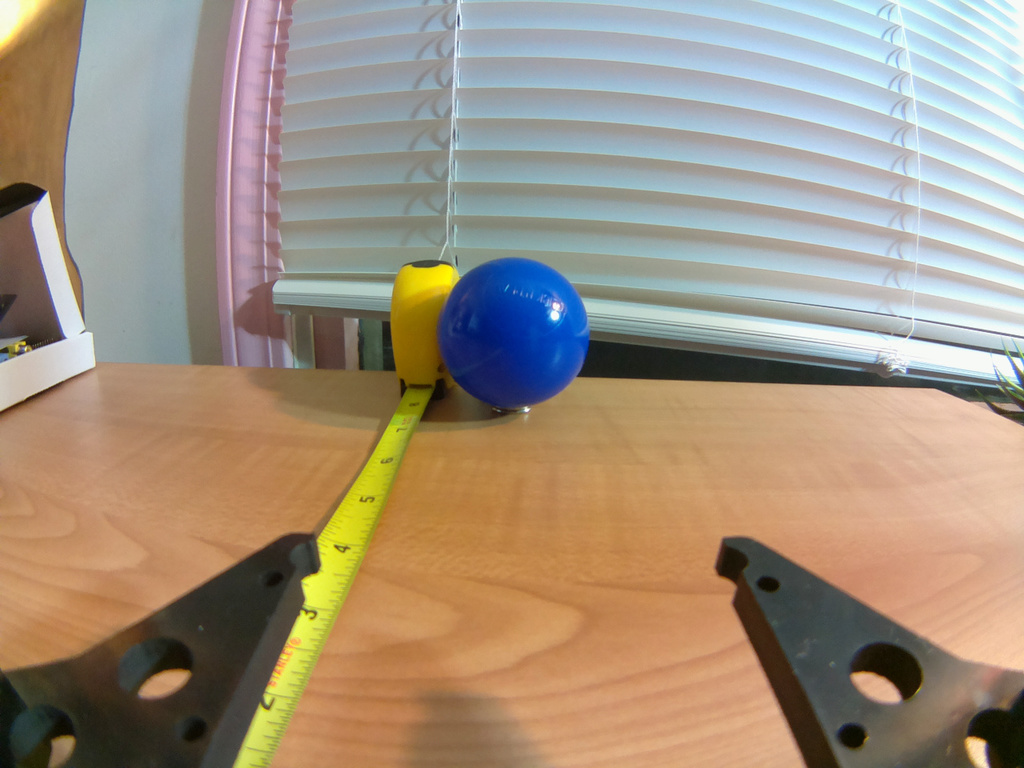ball: (437, 256, 592, 408)
